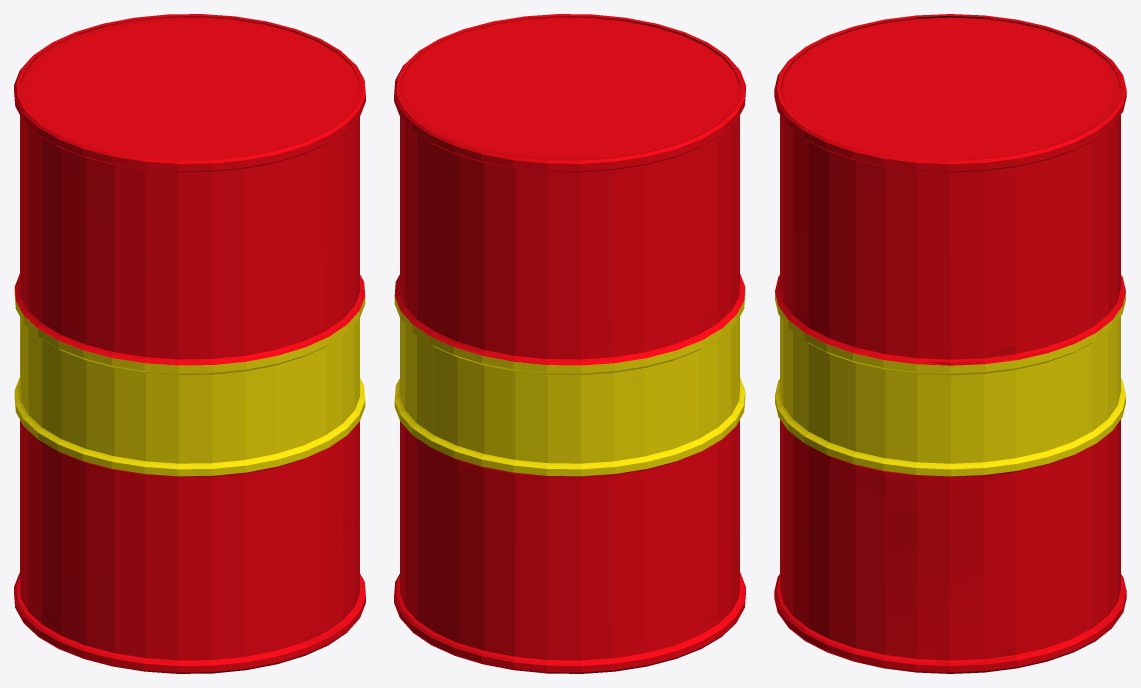
File: Barrel_1_painted.fbx
3 views of the same model, side by side, from view 1: azimuth 30°, elevation 25°; view 2: azimuth 150°, elevation 25°; view 3: azimuth 270°, elevation 25° (orthographic).
Visible parts, largest first — view 1: Cylinder; view 2: Cylinder; view 3: Cylinder.
Part boxes in pixels (x1,y1,x2,y2): Cylinder: (14,14,365,673); Cylinder: (394,14,745,673); Cylinder: (774,14,1126,673).
Size of the model in its own units: 310 by 498 by 310.
